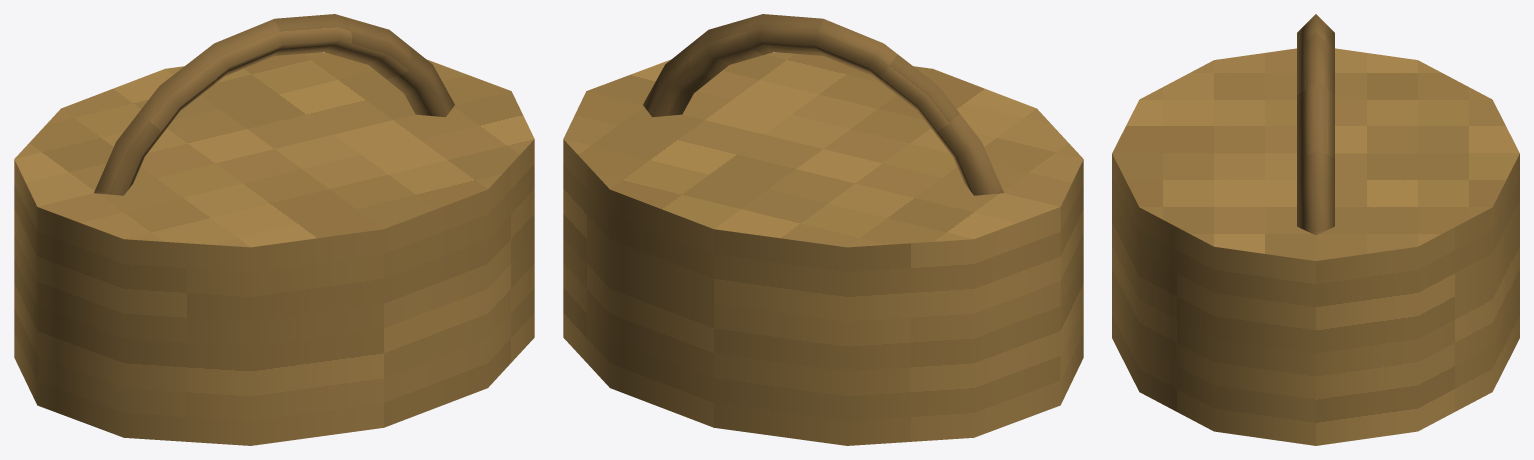
File: canasta.glb
3 views of the same model, side by side, from view 1: azimuth 30°, elevation 25°; view 2: azimuth 150°, elevation 25°; view 3: azimuth 270°, elevation 25° (orthographic). The views are drawn at different scales.
Parts seen in each view (by area): view 1: canasta; view 2: canasta; view 3: canasta.
Part boxes in pixels (x1,y1,x2,y2): canasta: (14, 14, 534, 445); canasta: (563, 14, 1083, 445); canasta: (1112, 14, 1519, 445).
Size of the model in its own units: 0.8 by 0.53 by 0.64.
4 materials, 4 textured.
